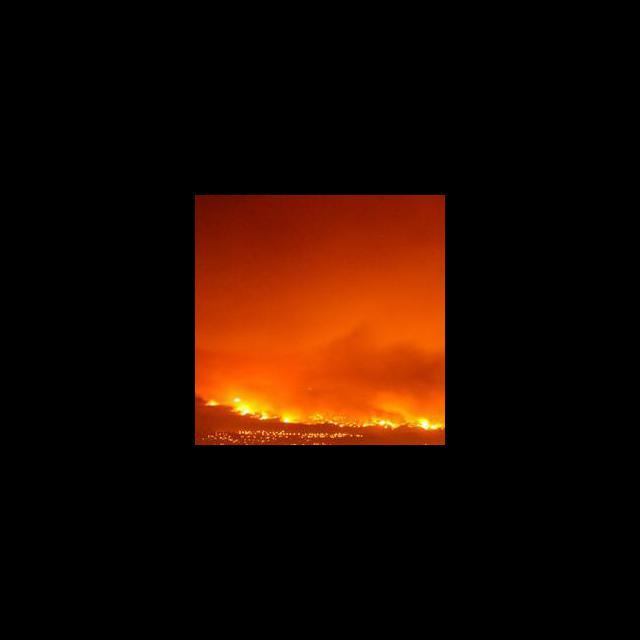Fire: (205, 396, 444, 432)
